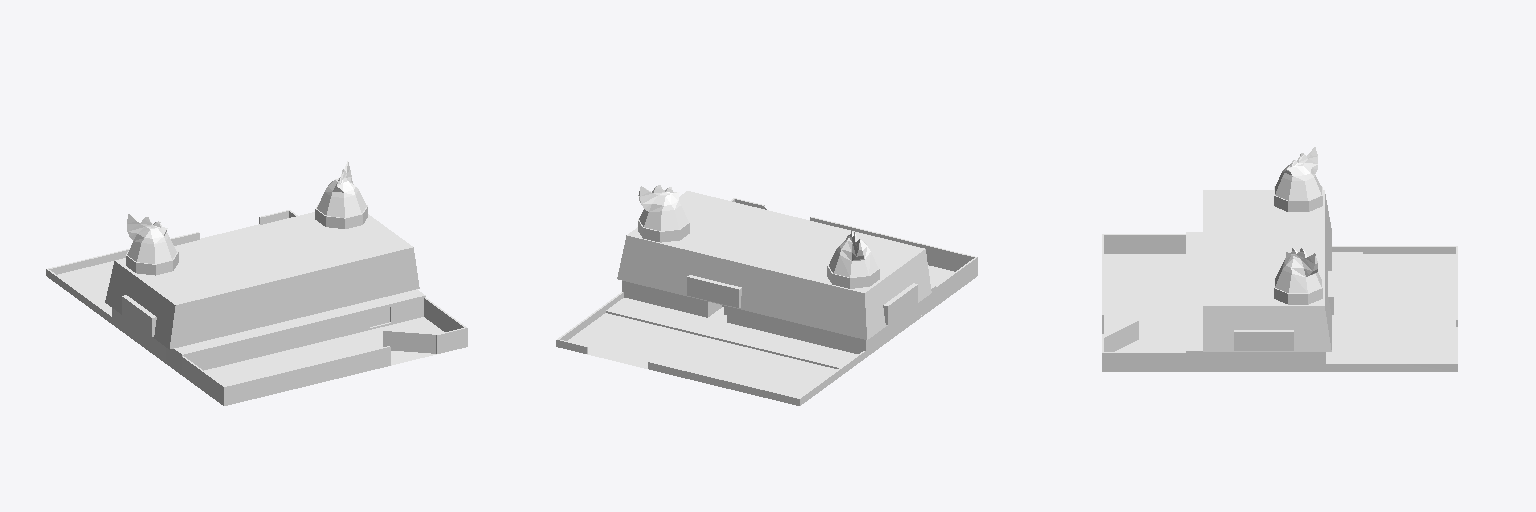
The model's file is cluckinbell.obj.
The picture shows the model from 3 angles: view 1: azimuth 30°, elevation 25°; view 2: azimuth 150°, elevation 25°; view 3: azimuth 270°, elevation 25°; orthographic projection.
Parts seen in each view (by area): view 1: cluckbell_SFS; view 2: cluckbell_SFS; view 3: cluckbell_SFS.
Boxes of the visible parts, x1=… form: cluckbell_SFS: x1=46, y1=161, x2=467, y2=405; cluckbell_SFS: x1=556, y1=185, x2=977, y2=405; cluckbell_SFS: x1=1102, y1=147, x2=1457, y2=371.
Size of the model in its own units: 41.75 by 17.54 by 50.62.